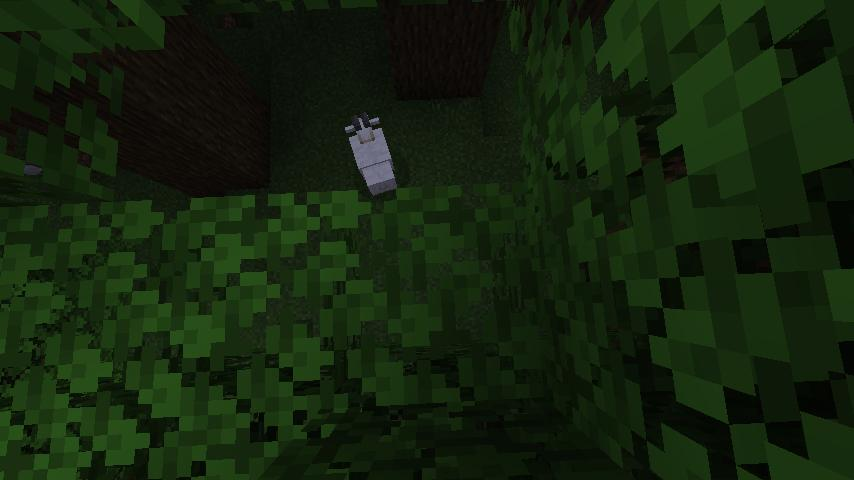goat: (343, 111, 401, 196)
